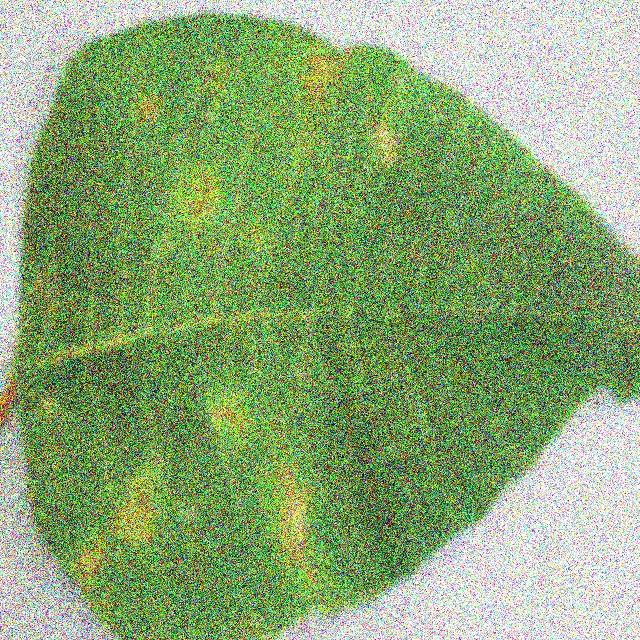leaf_spot: (60, 56, 517, 555)
